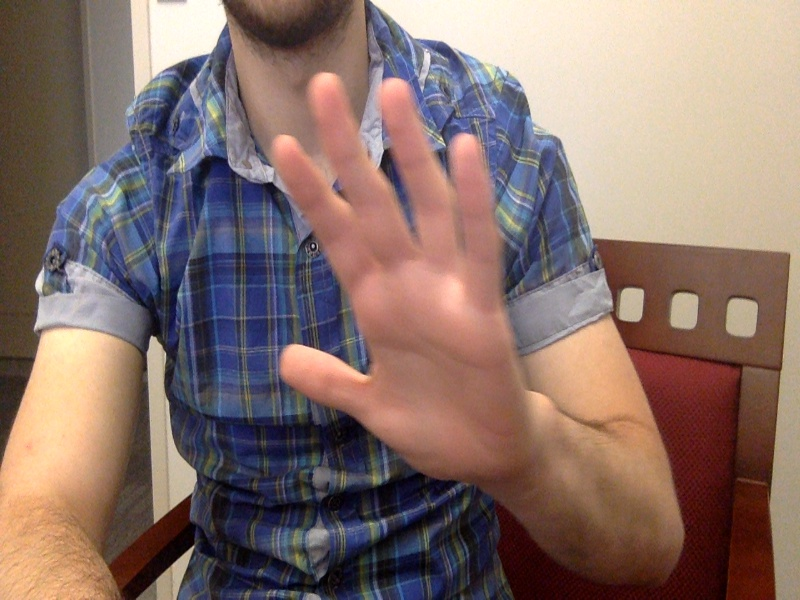5-hand: (273, 74, 542, 486)
